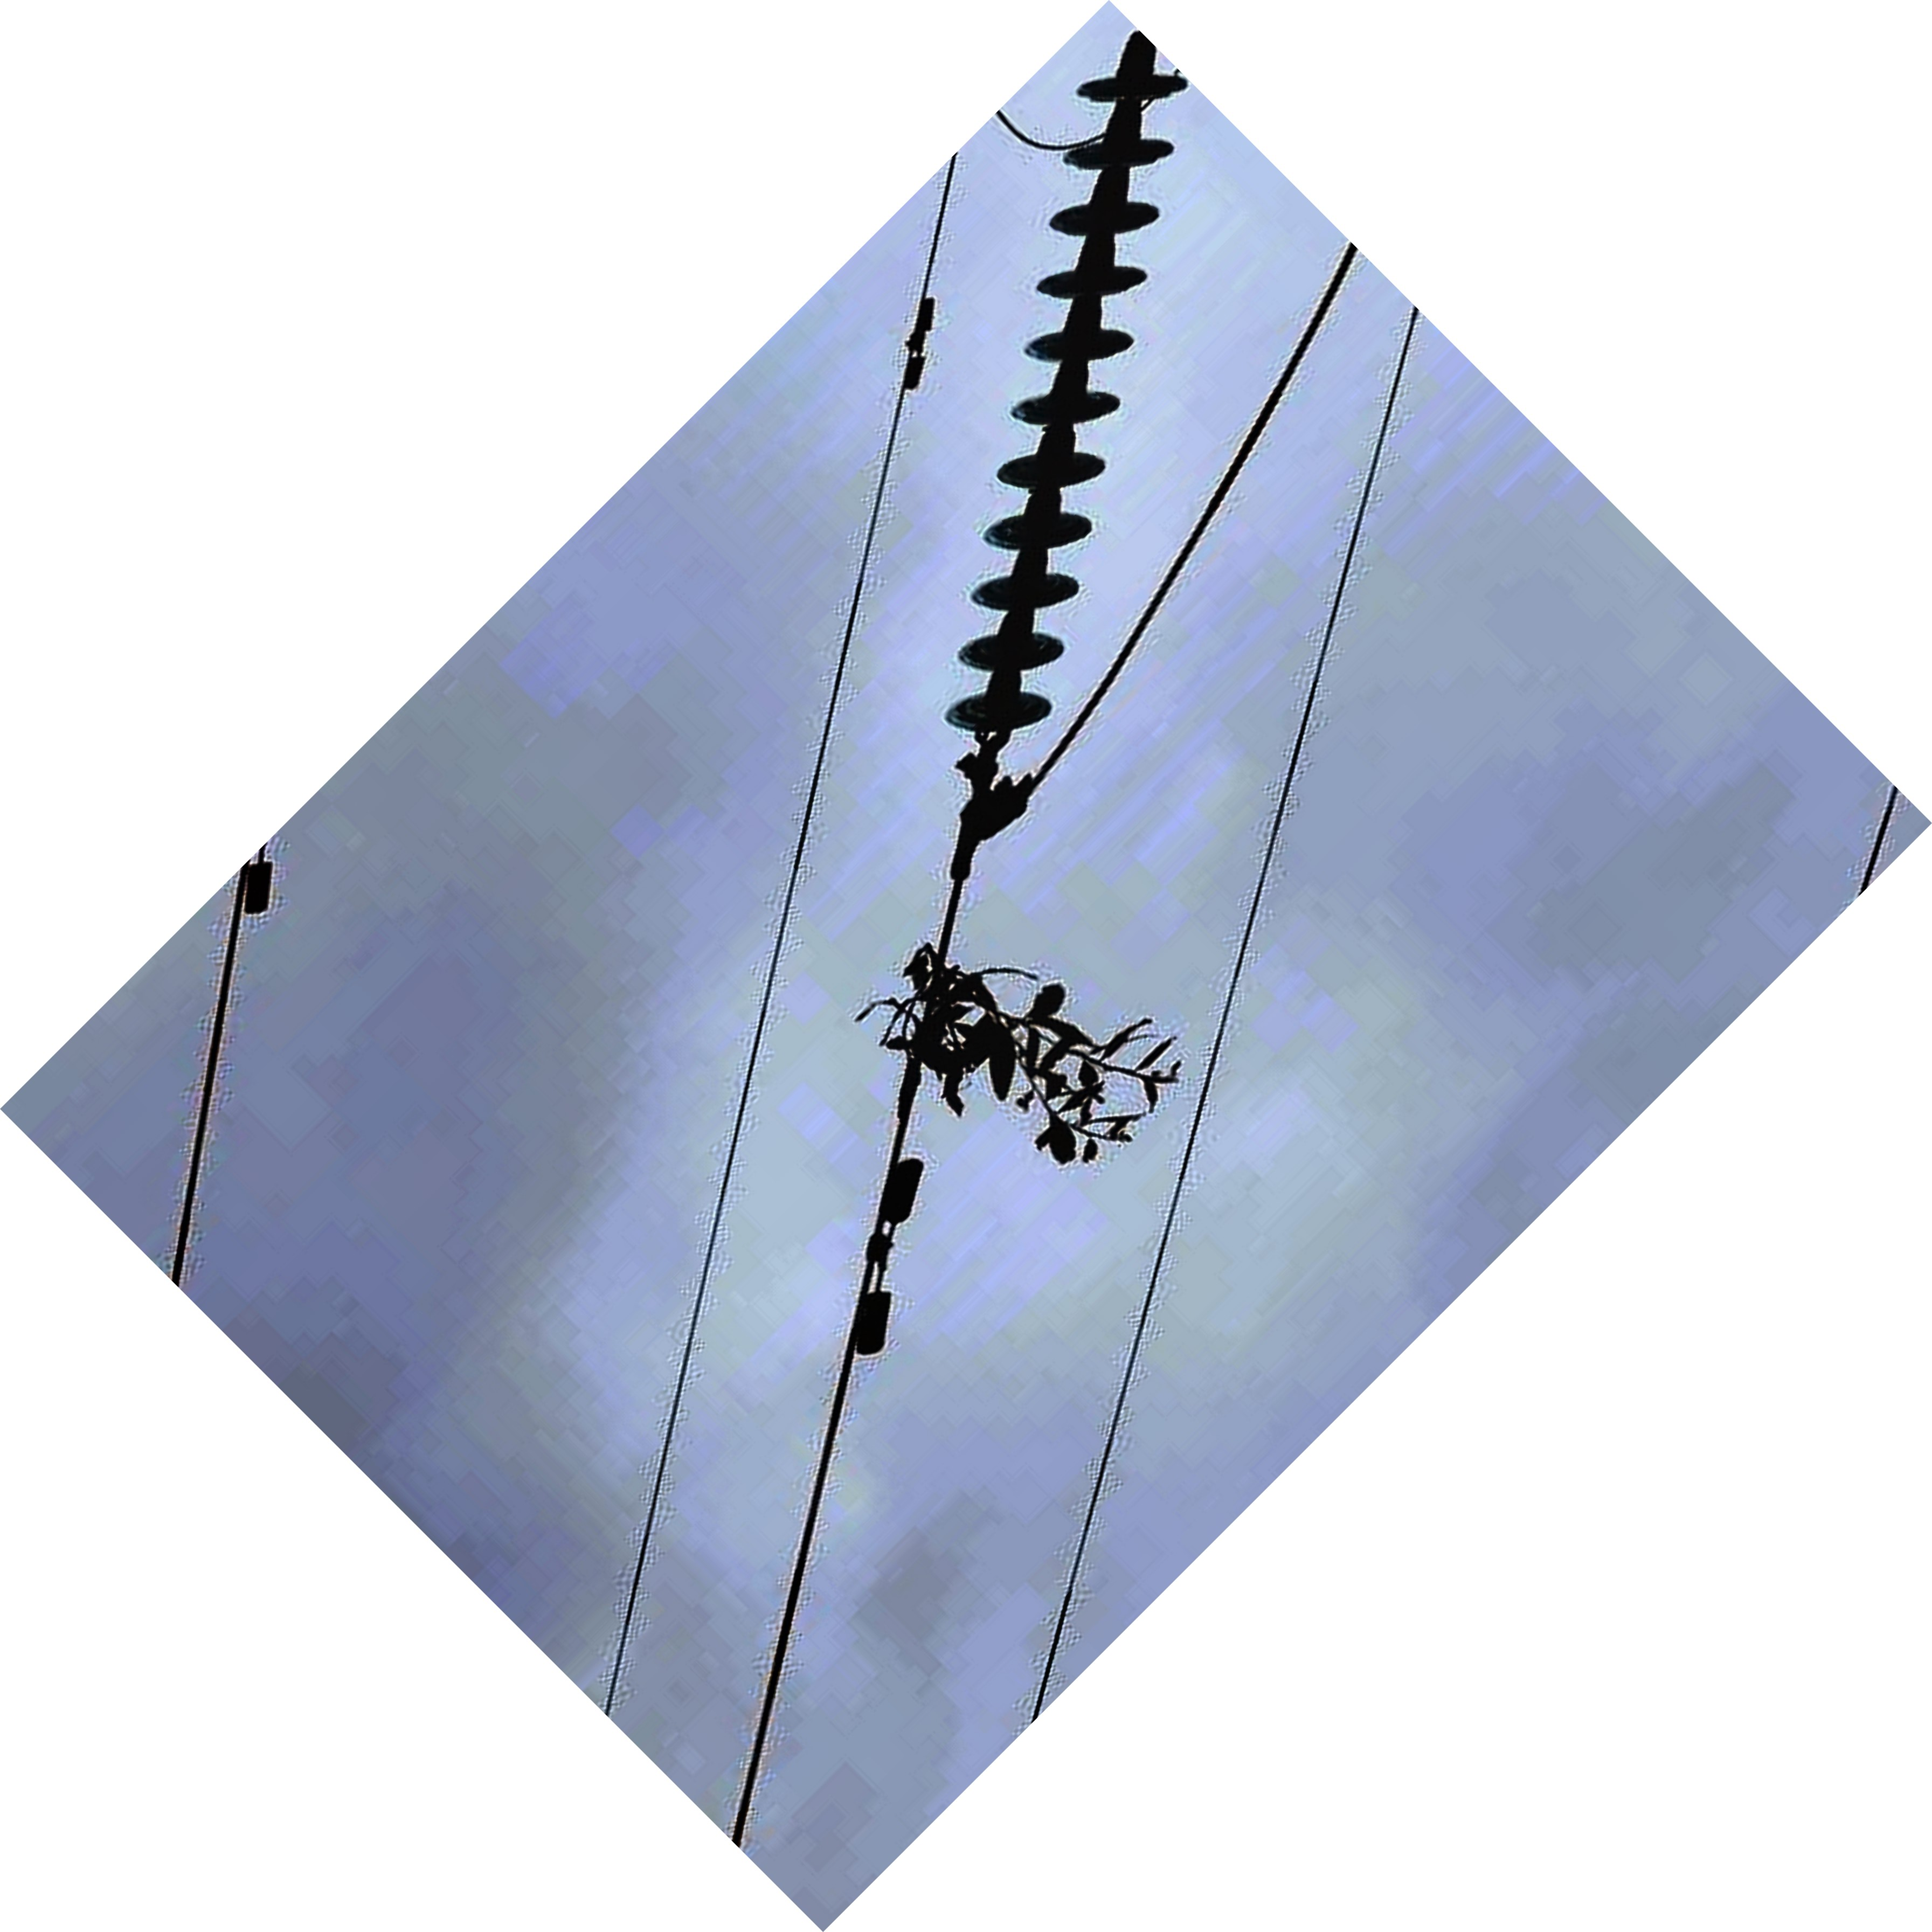wire foreign body: (855, 924, 1200, 1207)
